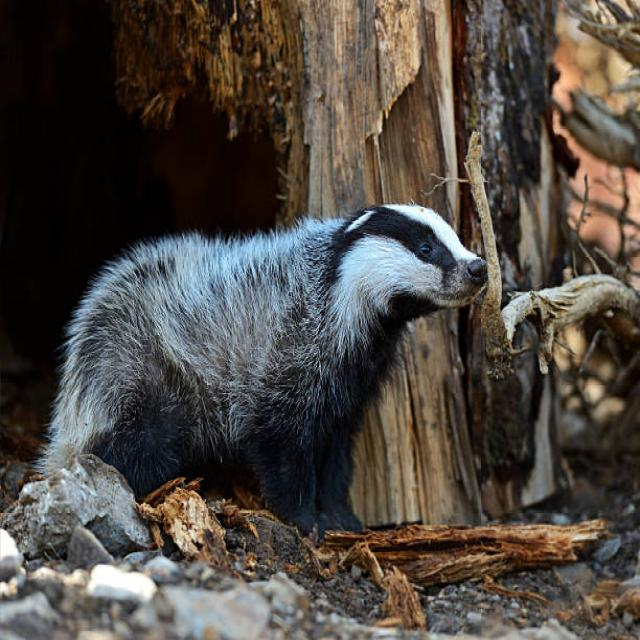Badger: (46, 201, 494, 512)
